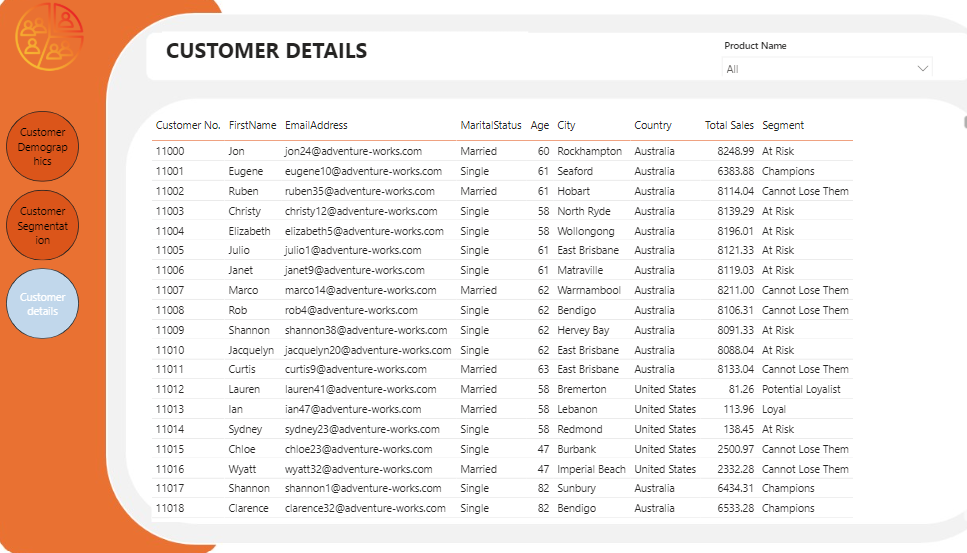

Layout of this report page (visuals, bound fields, positions):
{"tool":"powerbi","page":{"name":"Customer details","canvas":[1280,720],"ordinal":2},"visuals":[{"type":"textbox","box":[211.7,51,461.1,56.7],"z":0},{"type":"tableEx","fields":{"Values":["DimCustomer.CustomerKey","DimCustomer.FirstName","DimCustomer.EmailAddress","DimCustomer.MaritalStatus","Sum(DimCustomer.Age)","DimGeography.City","DimGeography.Country","Sum(FactInternetSales.SalesAmount)","Segments Table.Segment"]},"box":[192.8,151.2,1043.2,521.6],"z":1000},{"type":"slicer","fields":{"Values":["DimProduct.Product Name"]},"box":[907.1,54.8,285.4,52.9],"z":2000},{"type":"pageNavigator","box":[15.1,151.2,92.6,287.2],"z":3000},{"type":"image","box":[18.9,13.2,102,88.8],"z":4000}]}

Visuals, with their boxes in screenshot pixels (x1, y1, x2, y2), scaled from the page's 1280x720 canvas onto the 967x553 screenshot:
textbox: x1=160 y1=39 x2=508 y2=83
tableEx - DimCustomer.CustomerKey x DimCustomer.FirstName: x1=146 y1=116 x2=934 y2=517
slicer - DimProduct.Product Name: x1=685 y1=42 x2=901 y2=83
pageNavigator: x1=11 y1=116 x2=81 y2=337
image: x1=14 y1=10 x2=91 y2=78
